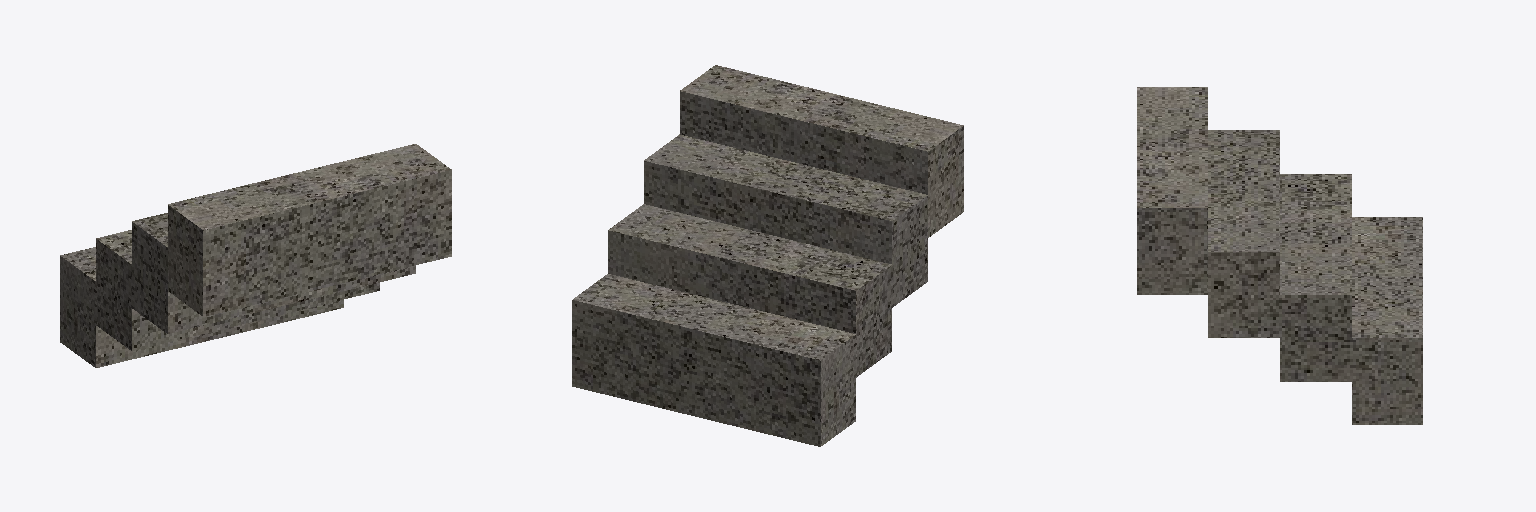
3 views of the same model, side by side, from view 1: azimuth 30°, elevation 25°; view 2: azimuth 150°, elevation 25°; view 3: azimuth 270°, elevation 25° (orthographic).
Bounding box in the file's own units: 1 × 0.8333 × 1.
1 materials, 1 textured.